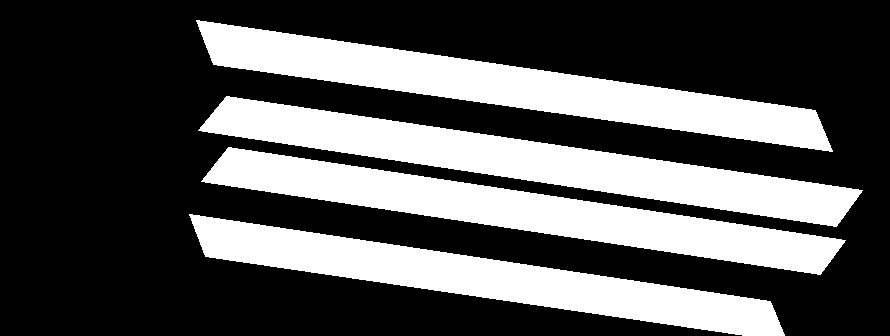parkingspot: (198, 96, 862, 226), (196, 20, 832, 151), (201, 147, 845, 274), (189, 214, 784, 335)
